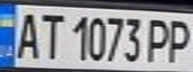0: (84, 12, 106, 62)
1: (66, 11, 90, 61)
3: (121, 14, 148, 63)
7: (103, 12, 127, 63)
A: (9, 9, 42, 61)
P: (145, 15, 175, 64), (163, 16, 193, 64)
T: (36, 9, 66, 61)
